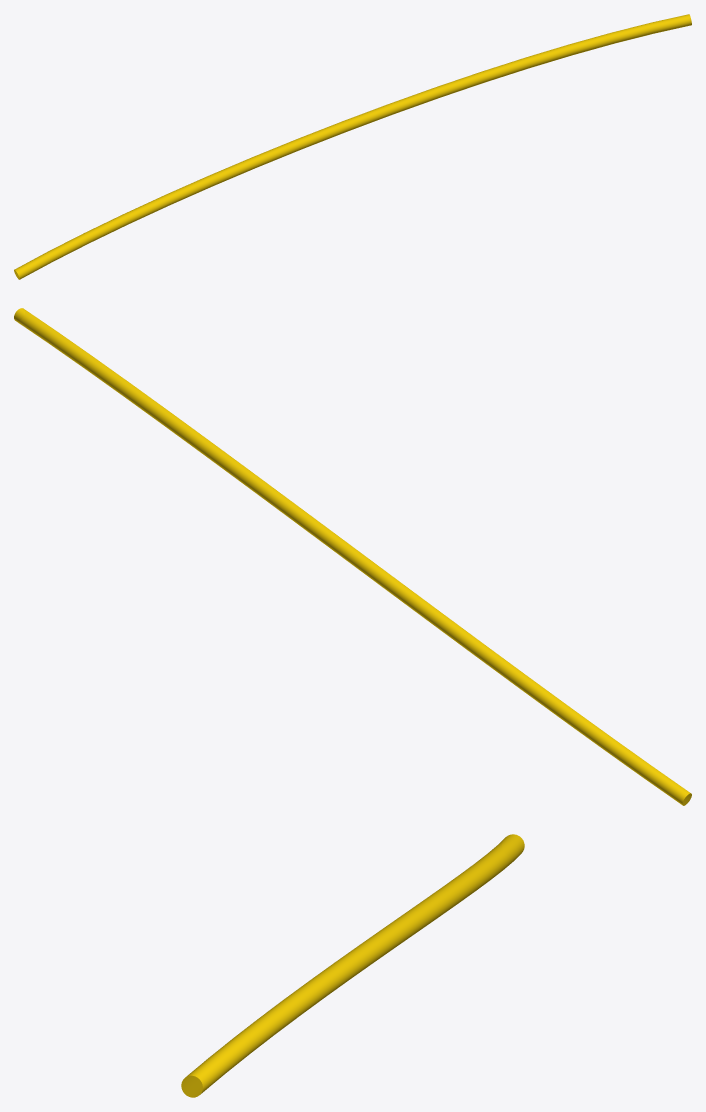
The model's file is Event_421127236_track_31.fbx.
The picture shows the model from 3 angles, top to bottom: view 1: azimuth 30°, elevation 25°; view 2: azimuth 150°, elevation 25°; view 3: azimuth 270°, elevation 25°; orthographic projection. The views are drawn at different scales.
Parts seen in each view (by area): view 1: Model; view 2: Model; view 3: Model.
Boxes of the visible parts, <box> form: Model: <box>14,14,691,279</box>; Model: <box>14,308,691,805</box>; Model: <box>181,834,524,1097</box>.
Bounding box in the file's own units: 2.41 × 0.6909 × 0.6004.
